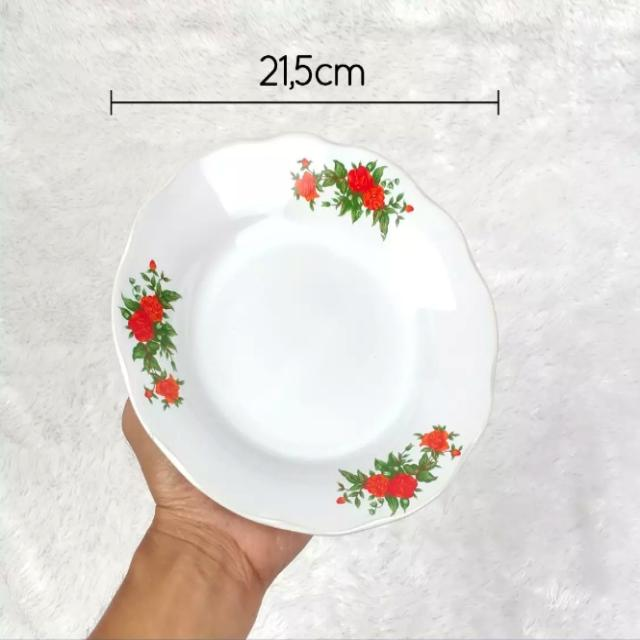Piring: (100, 124, 509, 550)
